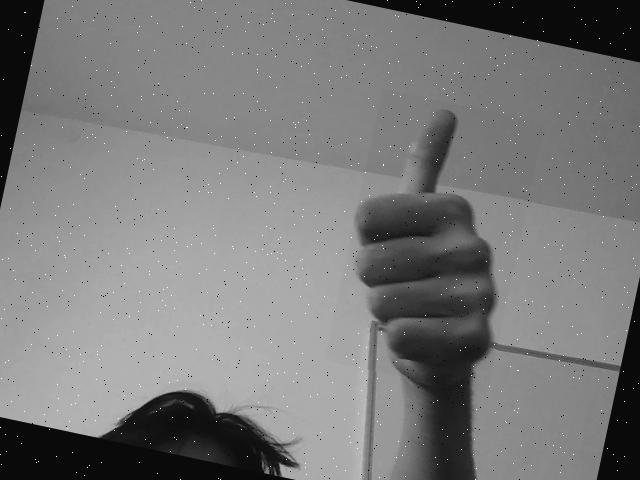good: (356, 101, 500, 390)
